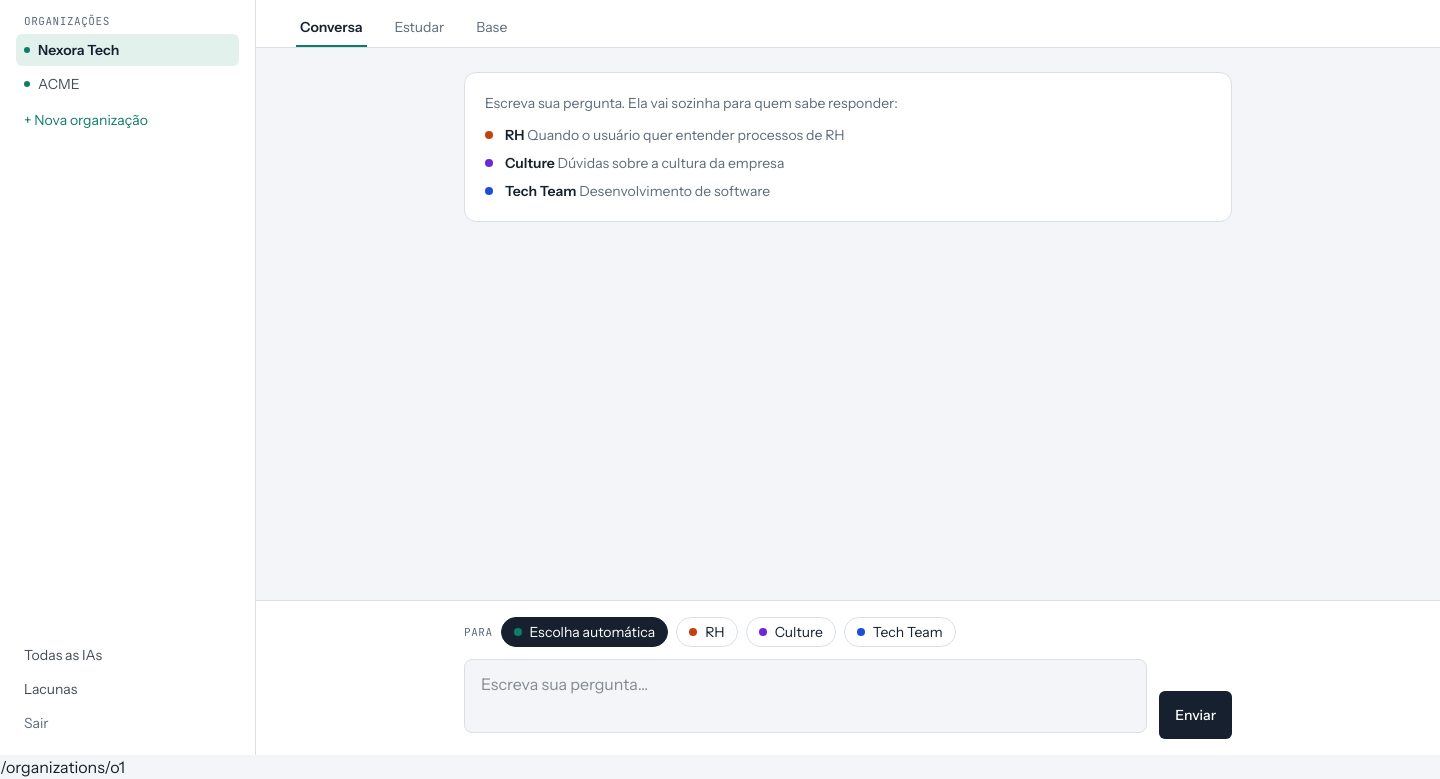
Scenario: organization chat › asking an alternative appends to the thread
This screenshot has width=1440, height=779.
(page scrolled)
Type "Como peço férias?" into the text box named "Mensagem".
click(806, 696); type("Como peço férias?")  # box top-left (464, 659), bottom-right (1147, 733)
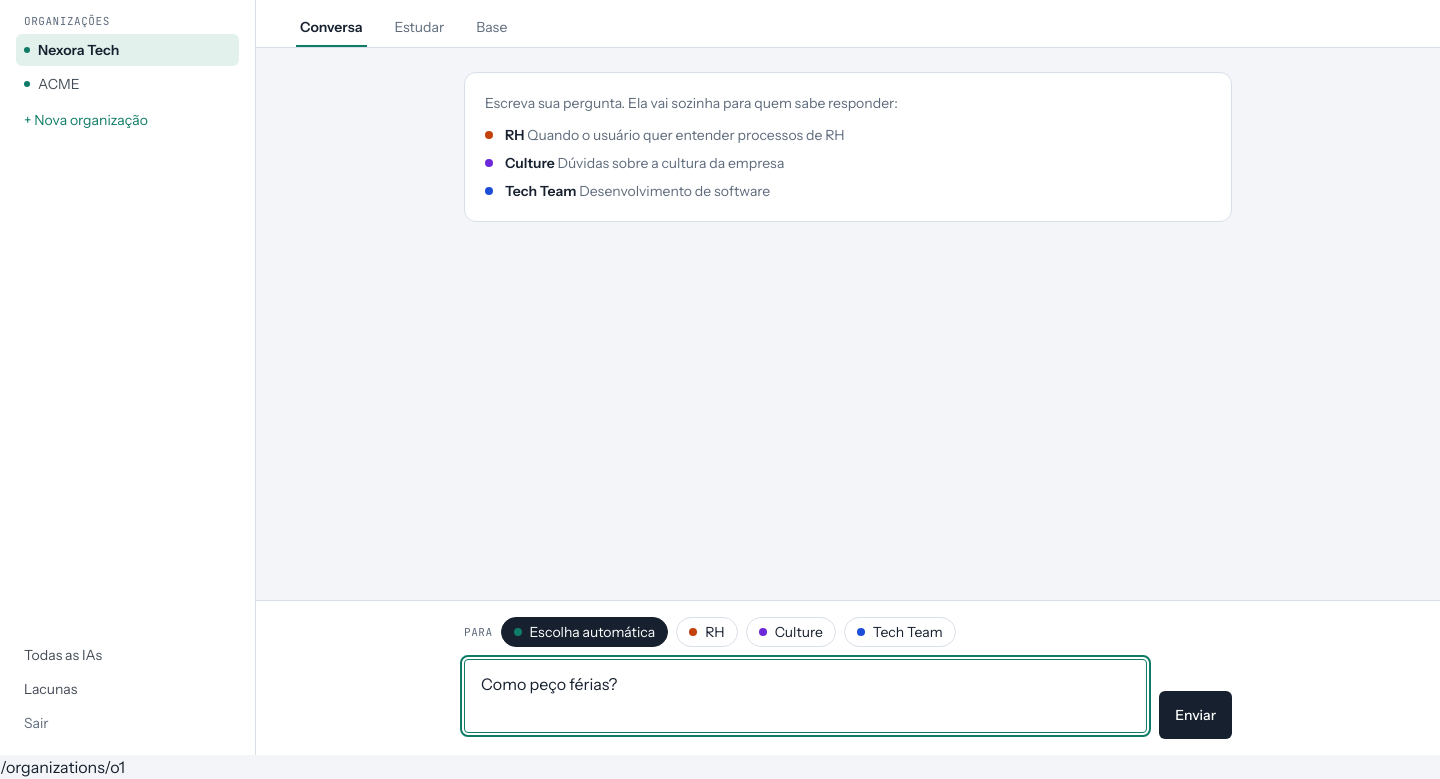
Click the button "Enviar".
click(1196, 715)  # box top-left (1159, 691), bottom-right (1232, 739)
(page scrolled)
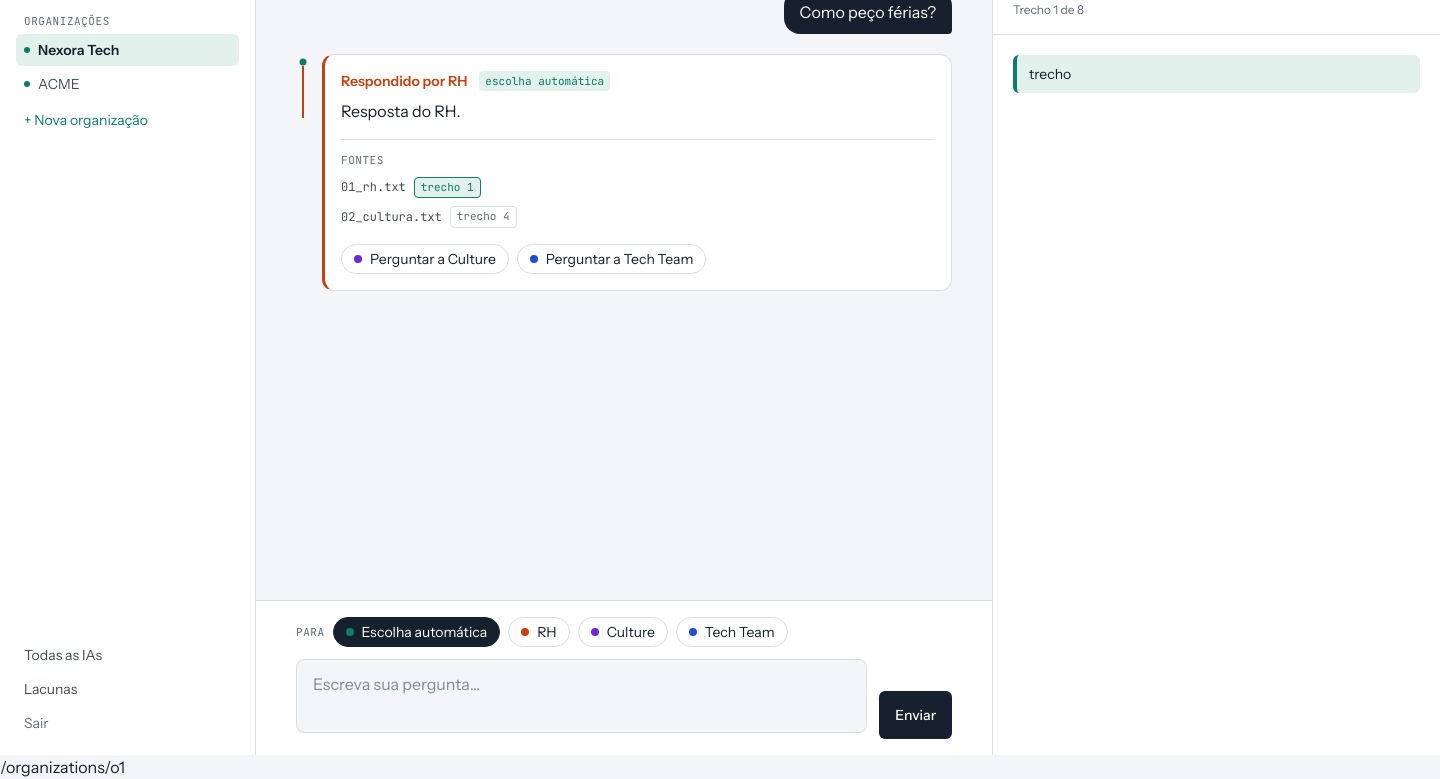
Click the button "Perguntar a Culture".
click(425, 259)  # box top-left (341, 244), bottom-right (509, 274)
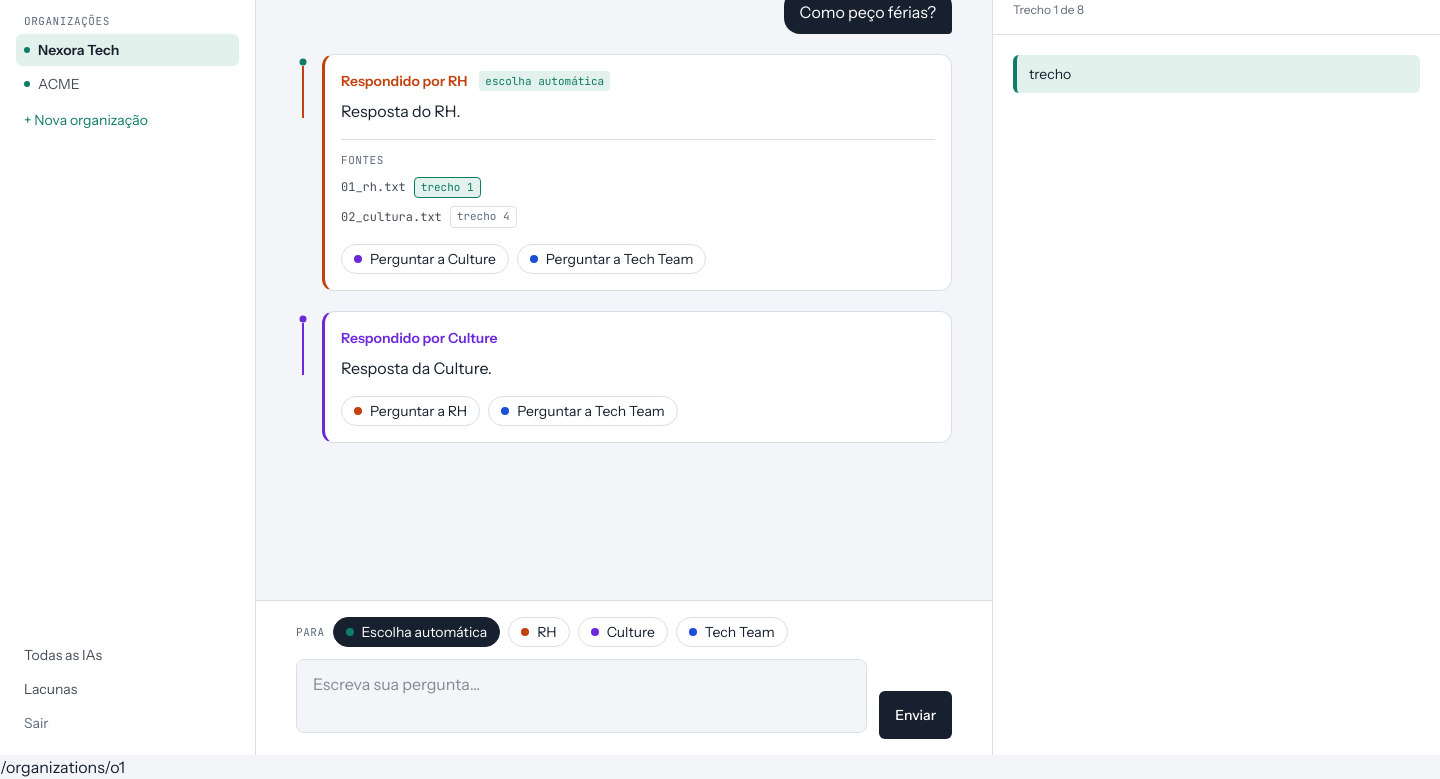
Now the text "Respondido por RH" is shown, box top-left (341, 71), bottom-right (467, 91)
Now the text "Resposta da Culture." is shown, box top-left (341, 358), bottom-right (492, 378)
Now the text "Respondido por Culture" is shown, box top-left (341, 328), bottom-right (498, 348)
